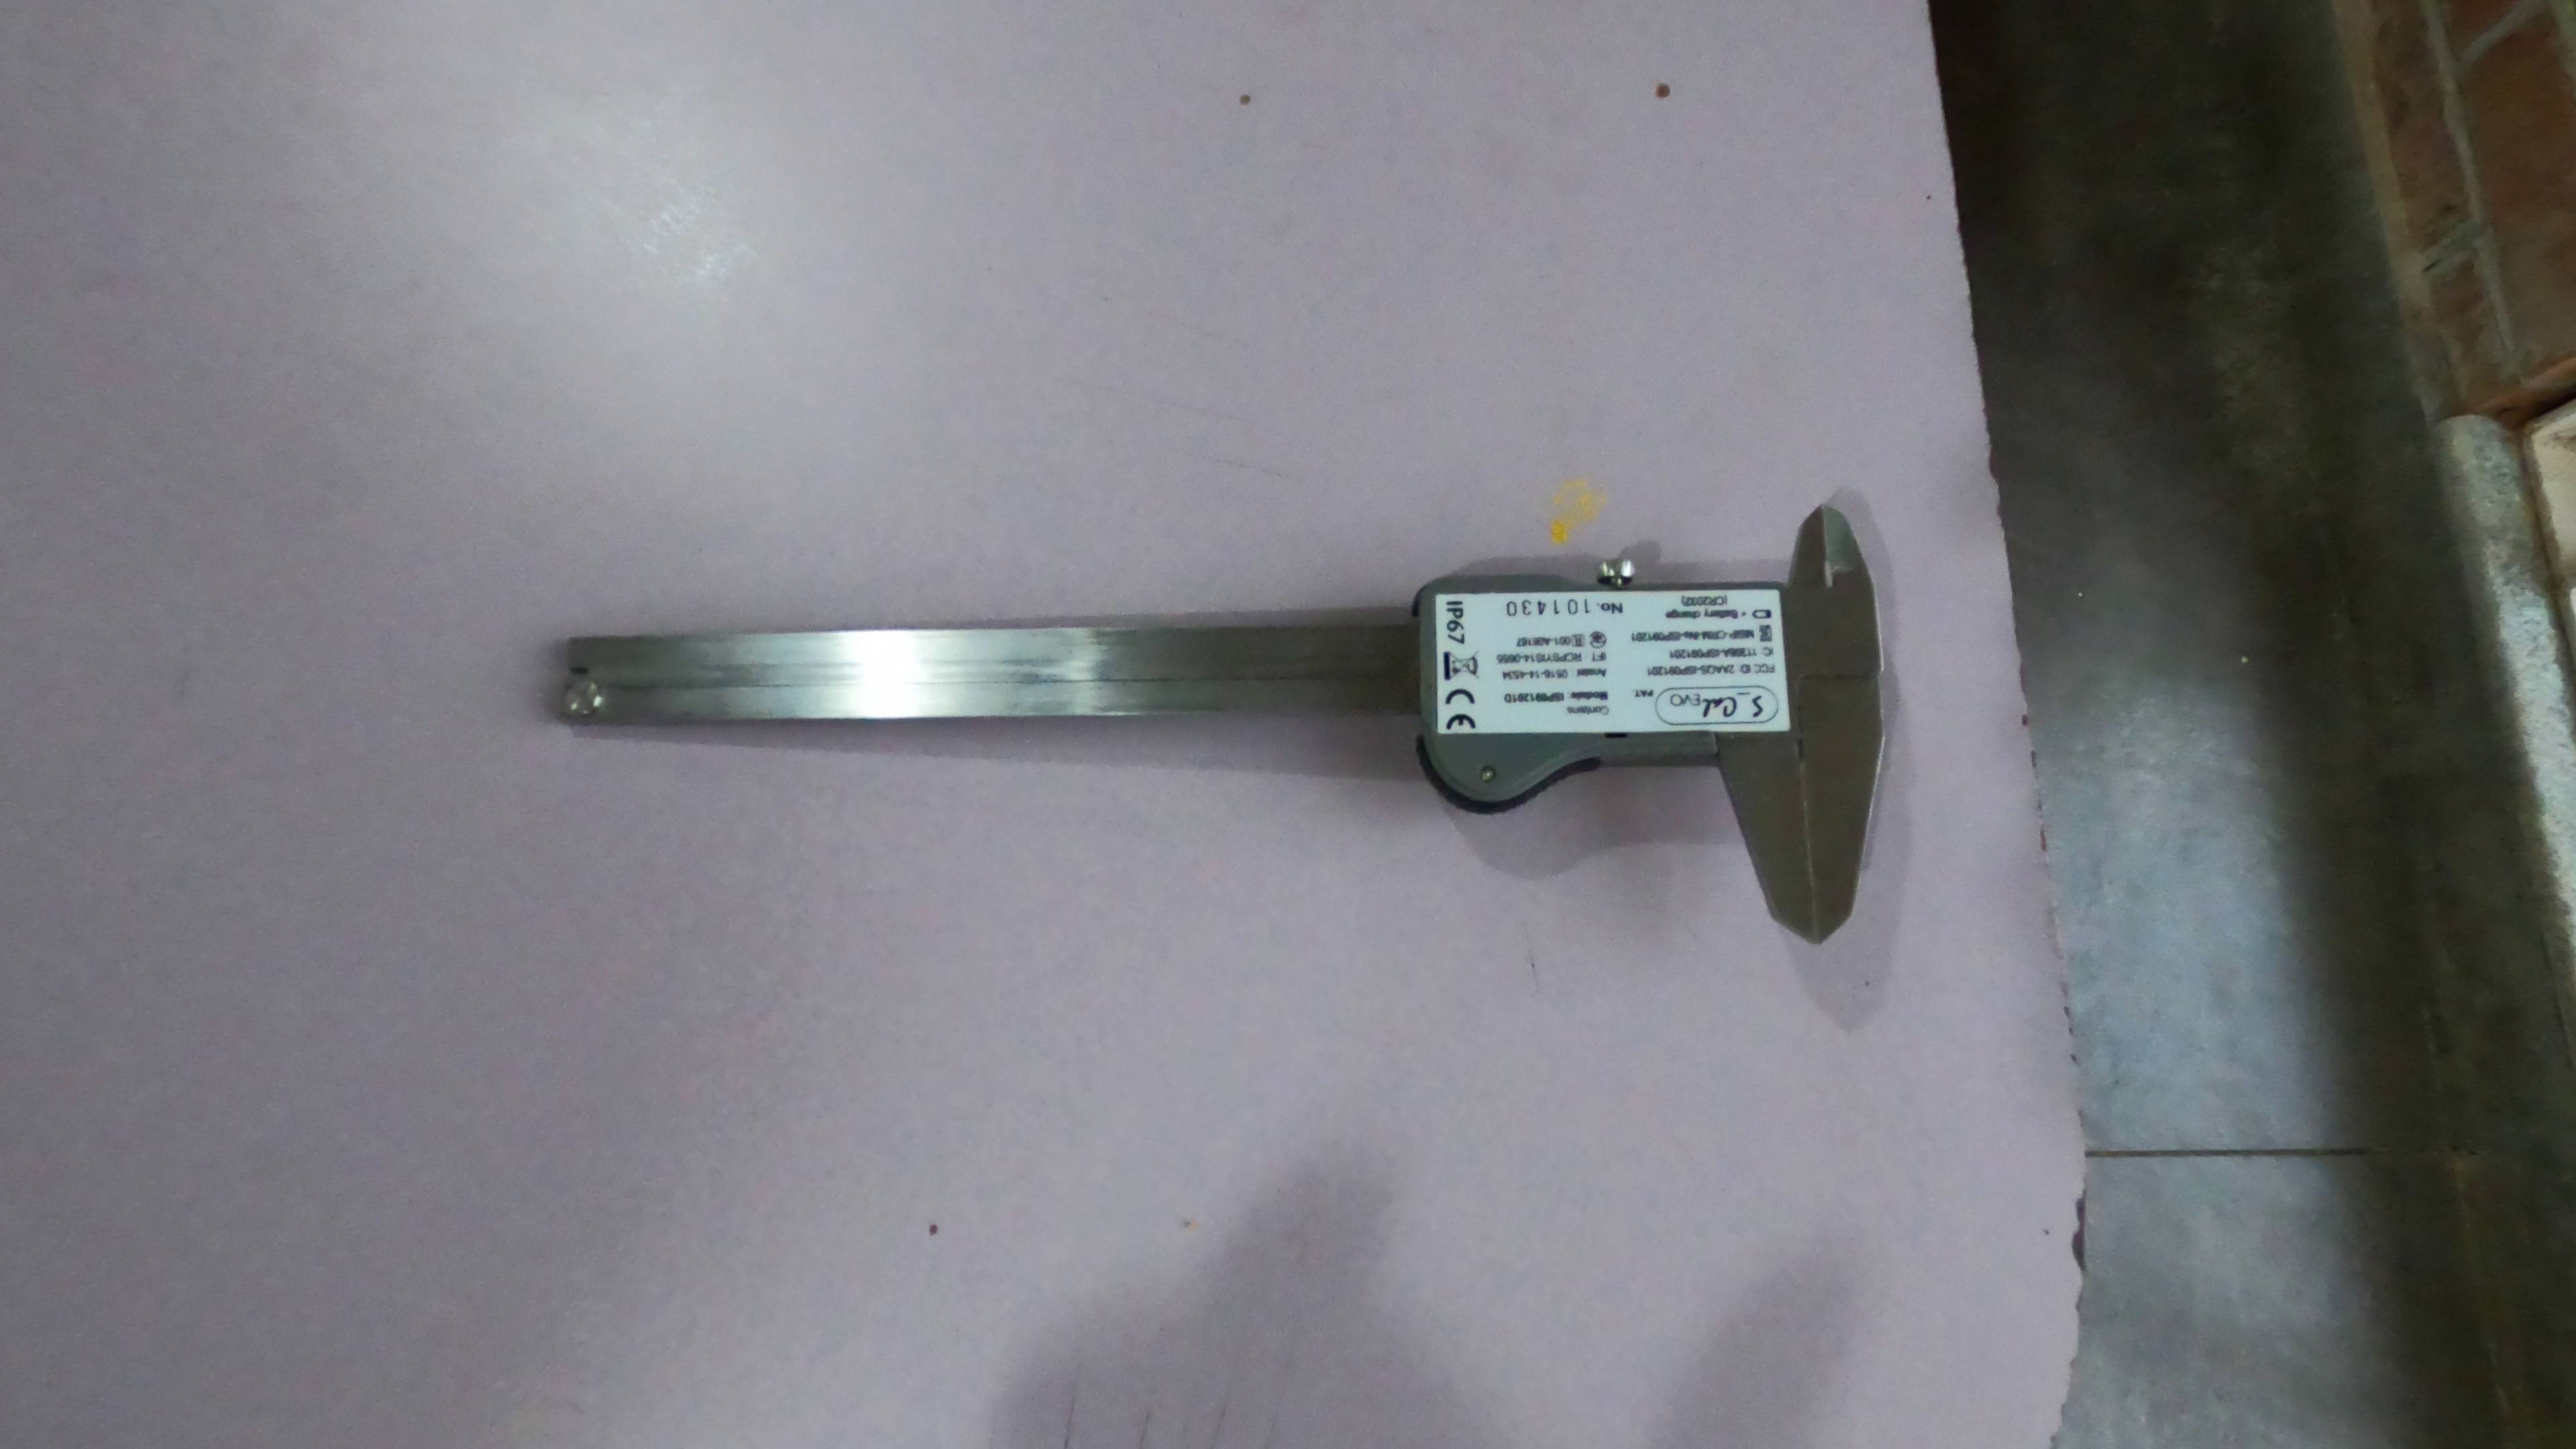vernier_caliper: (527, 492, 1891, 947)
